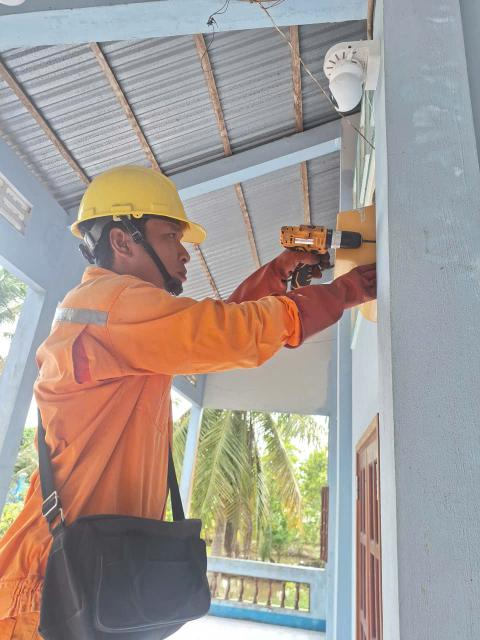gloves: (257, 247, 391, 342), (210, 248, 338, 298)
helmet: (63, 155, 196, 248)
